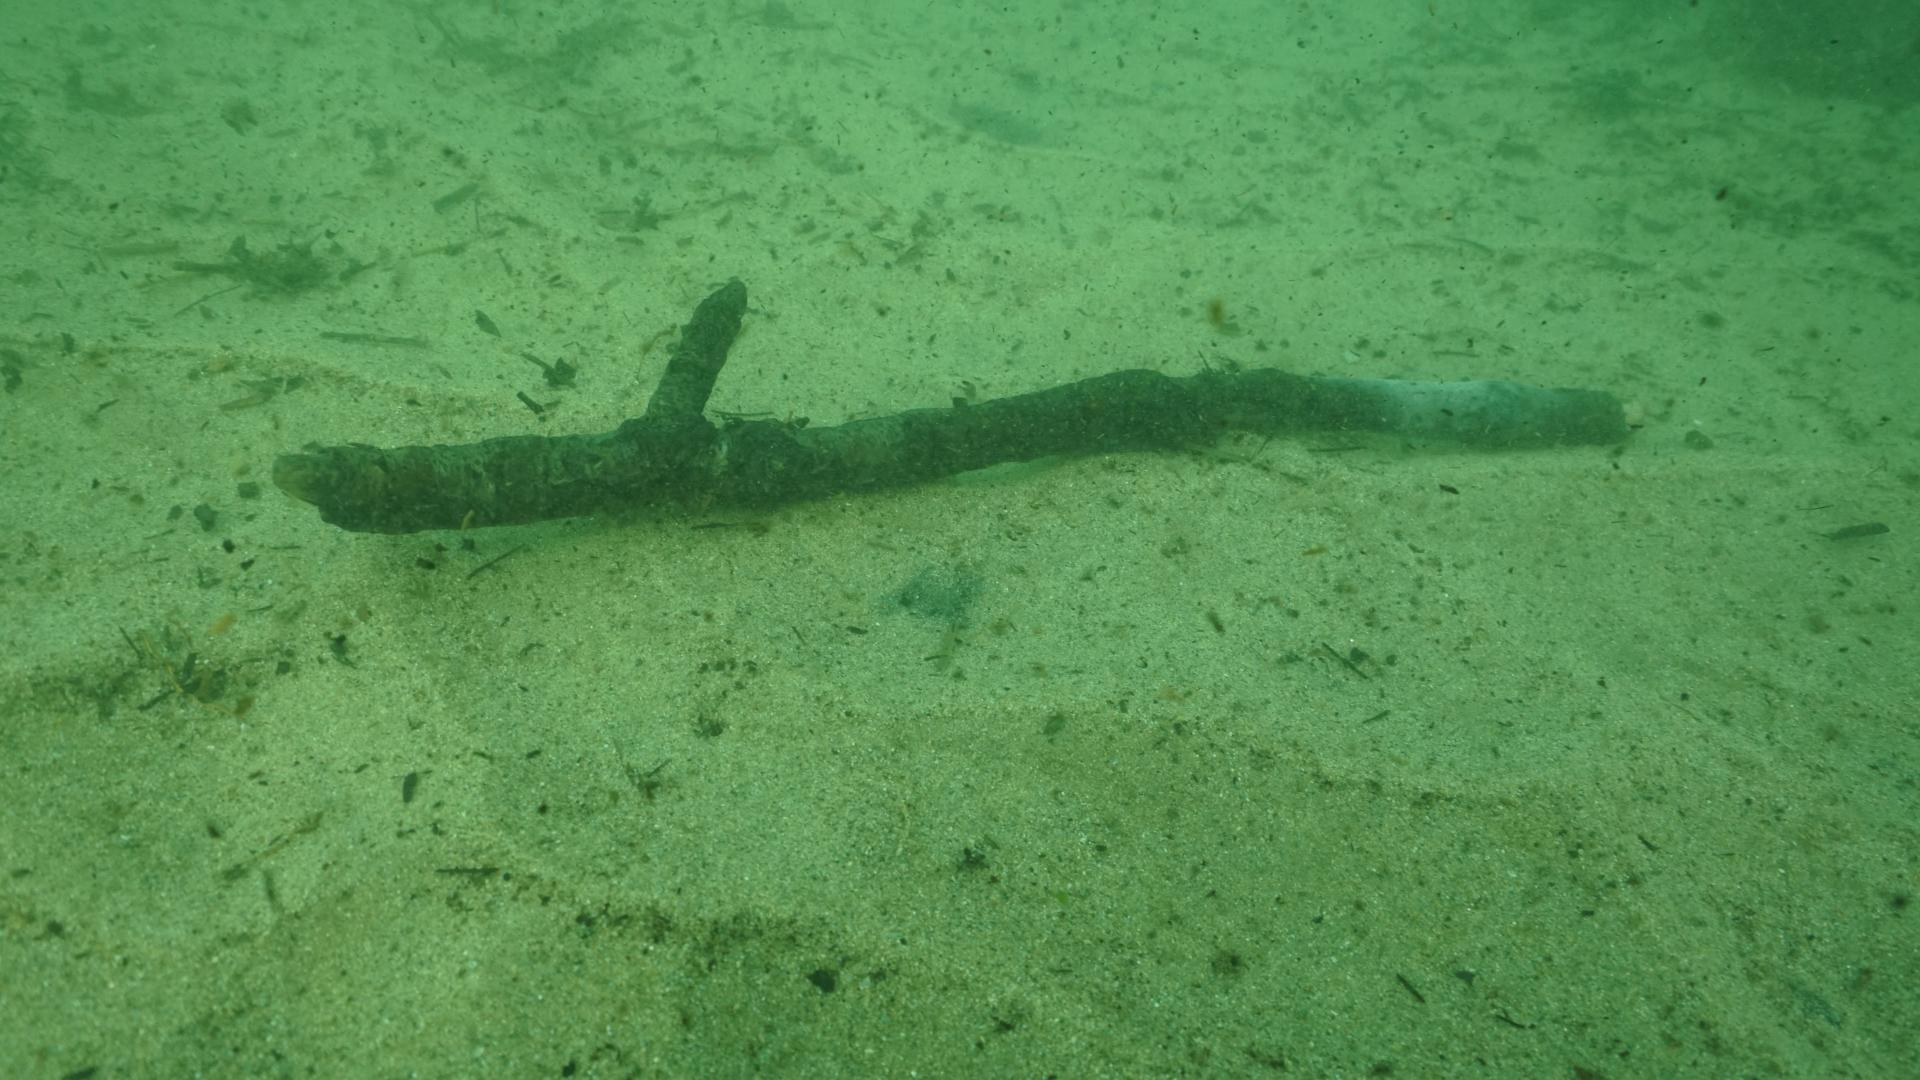wood: (266, 272, 1633, 539)
